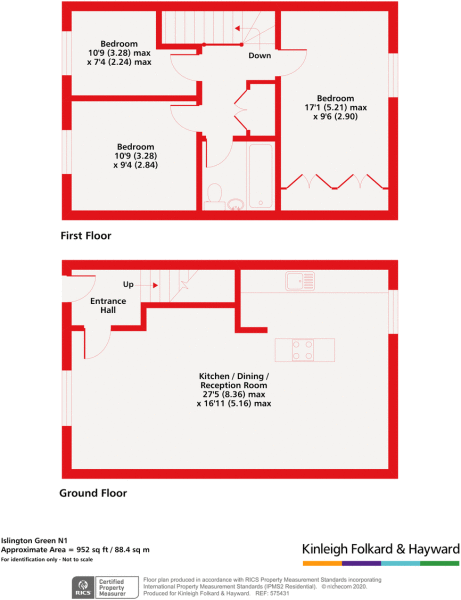GrossArea: (1, 545, 158, 555)
